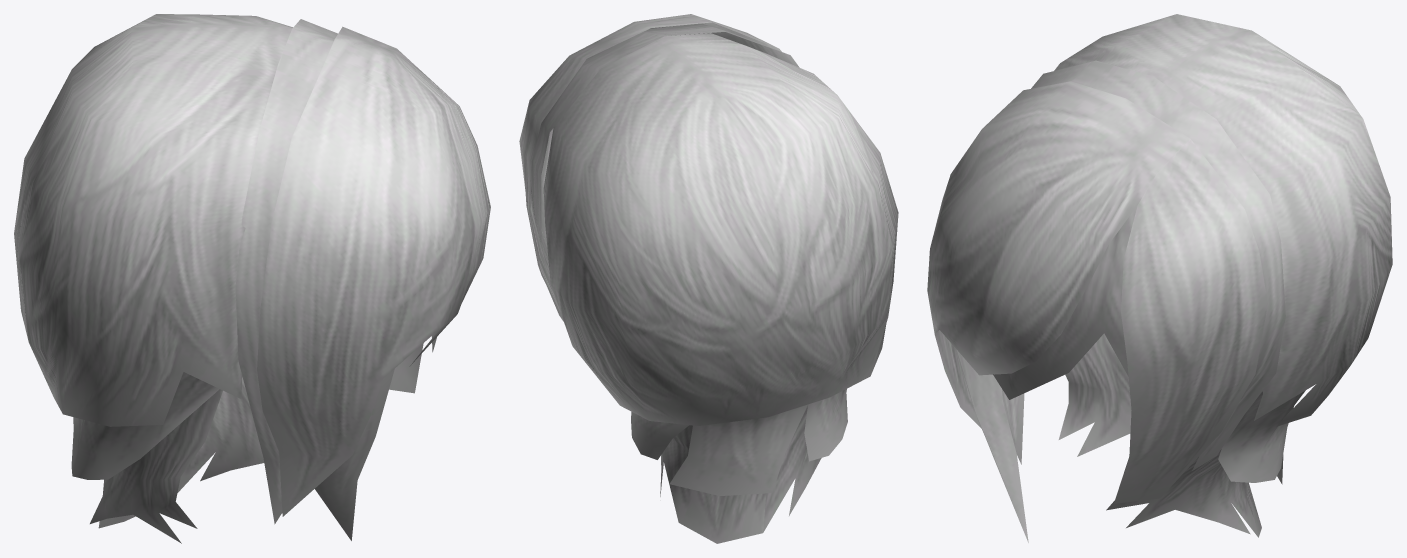
The model's file is GHair_1.glb.
The picture shows the model from 3 angles, left to right: view 1: azimuth 30°, elevation 25°; view 2: azimuth 150°, elevation 25°; view 3: azimuth 270°, elevation 25°; orthographic projection. The views are drawn at different scales.
Parts seen in each view (by area): view 1: #G1Q; view 2: #G1Q; view 3: #G1Q.
Boxes of the visible parts, x1,y1,x2,y2 form: #G1Q: (14, 14, 490, 543); #G1Q: (519, 14, 898, 543); #G1Q: (927, 14, 1392, 542).
Size of the model in its own units: 0.0334 by 0.0395 by 0.0329.
1 material, 1 textured.
